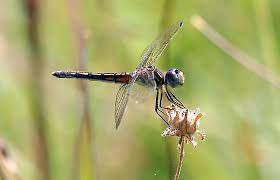insect: (50, 16, 187, 129)
